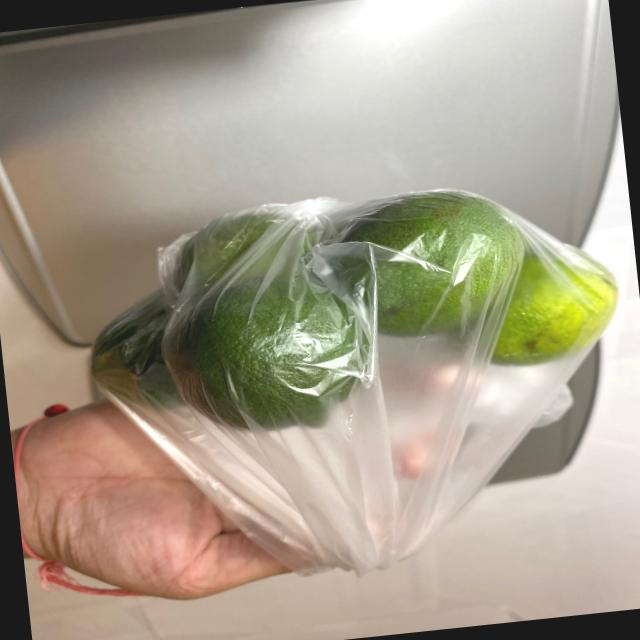lemon: (65, 170, 626, 448)
